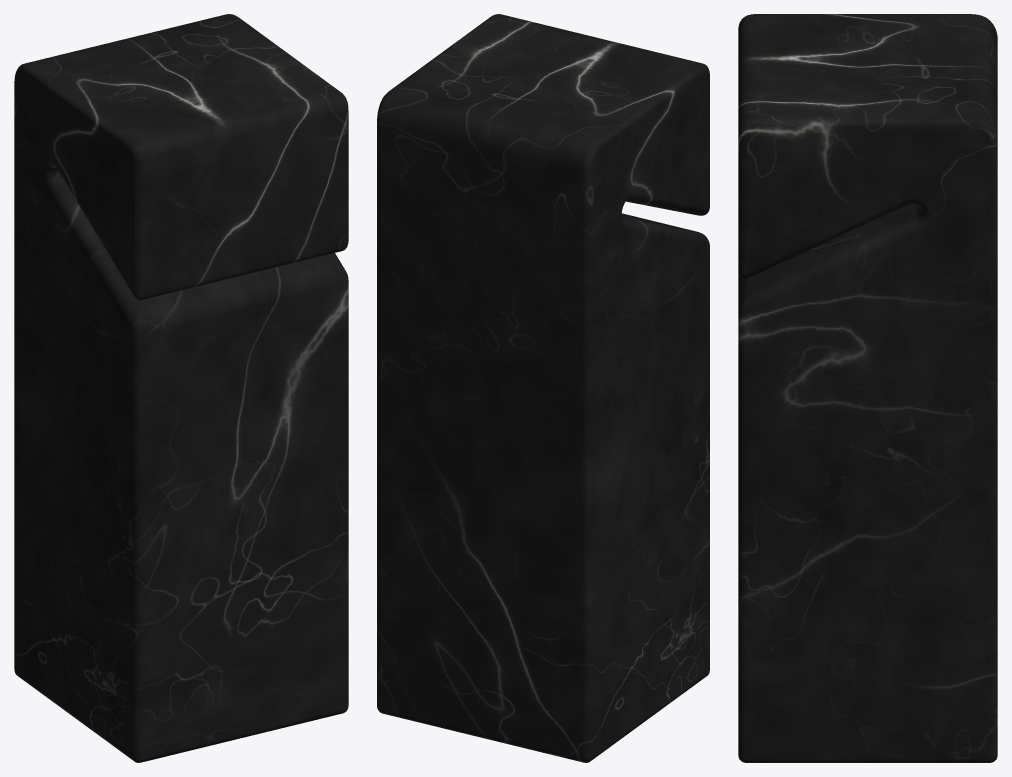
File: knight-black.glb
The picture shows the model from 3 angles, left to right: view 1: azimuth 30°, elevation 25°; view 2: azimuth 150°, elevation 25°; view 3: azimuth 270°, elevation 25°; orthographic projection. The views are drawn at different scales.
Visible parts, largest first — view 1: jezdec_cerny; view 2: jezdec_cerny; view 3: jezdec_cerny.
Part boxes in pixels (bbox=[...]): jezdec_cerny: bbox=[14, 14, 348, 762]; jezdec_cerny: bbox=[377, 14, 709, 762]; jezdec_cerny: bbox=[738, 14, 997, 762].
Size of the model in its own units: 0.4304 by 1.18 by 0.4304.
Materials: 1 (1 with a texture image).
